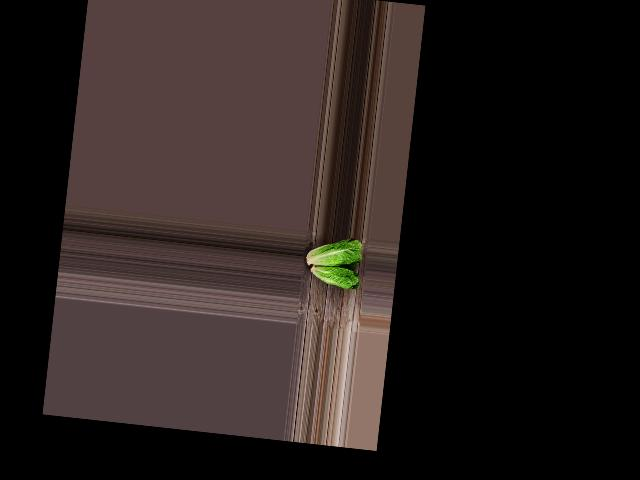lettuce: (302, 232, 365, 271)
